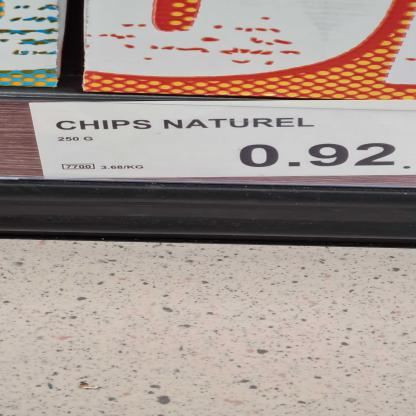prtg: (29, 101, 415, 181)
